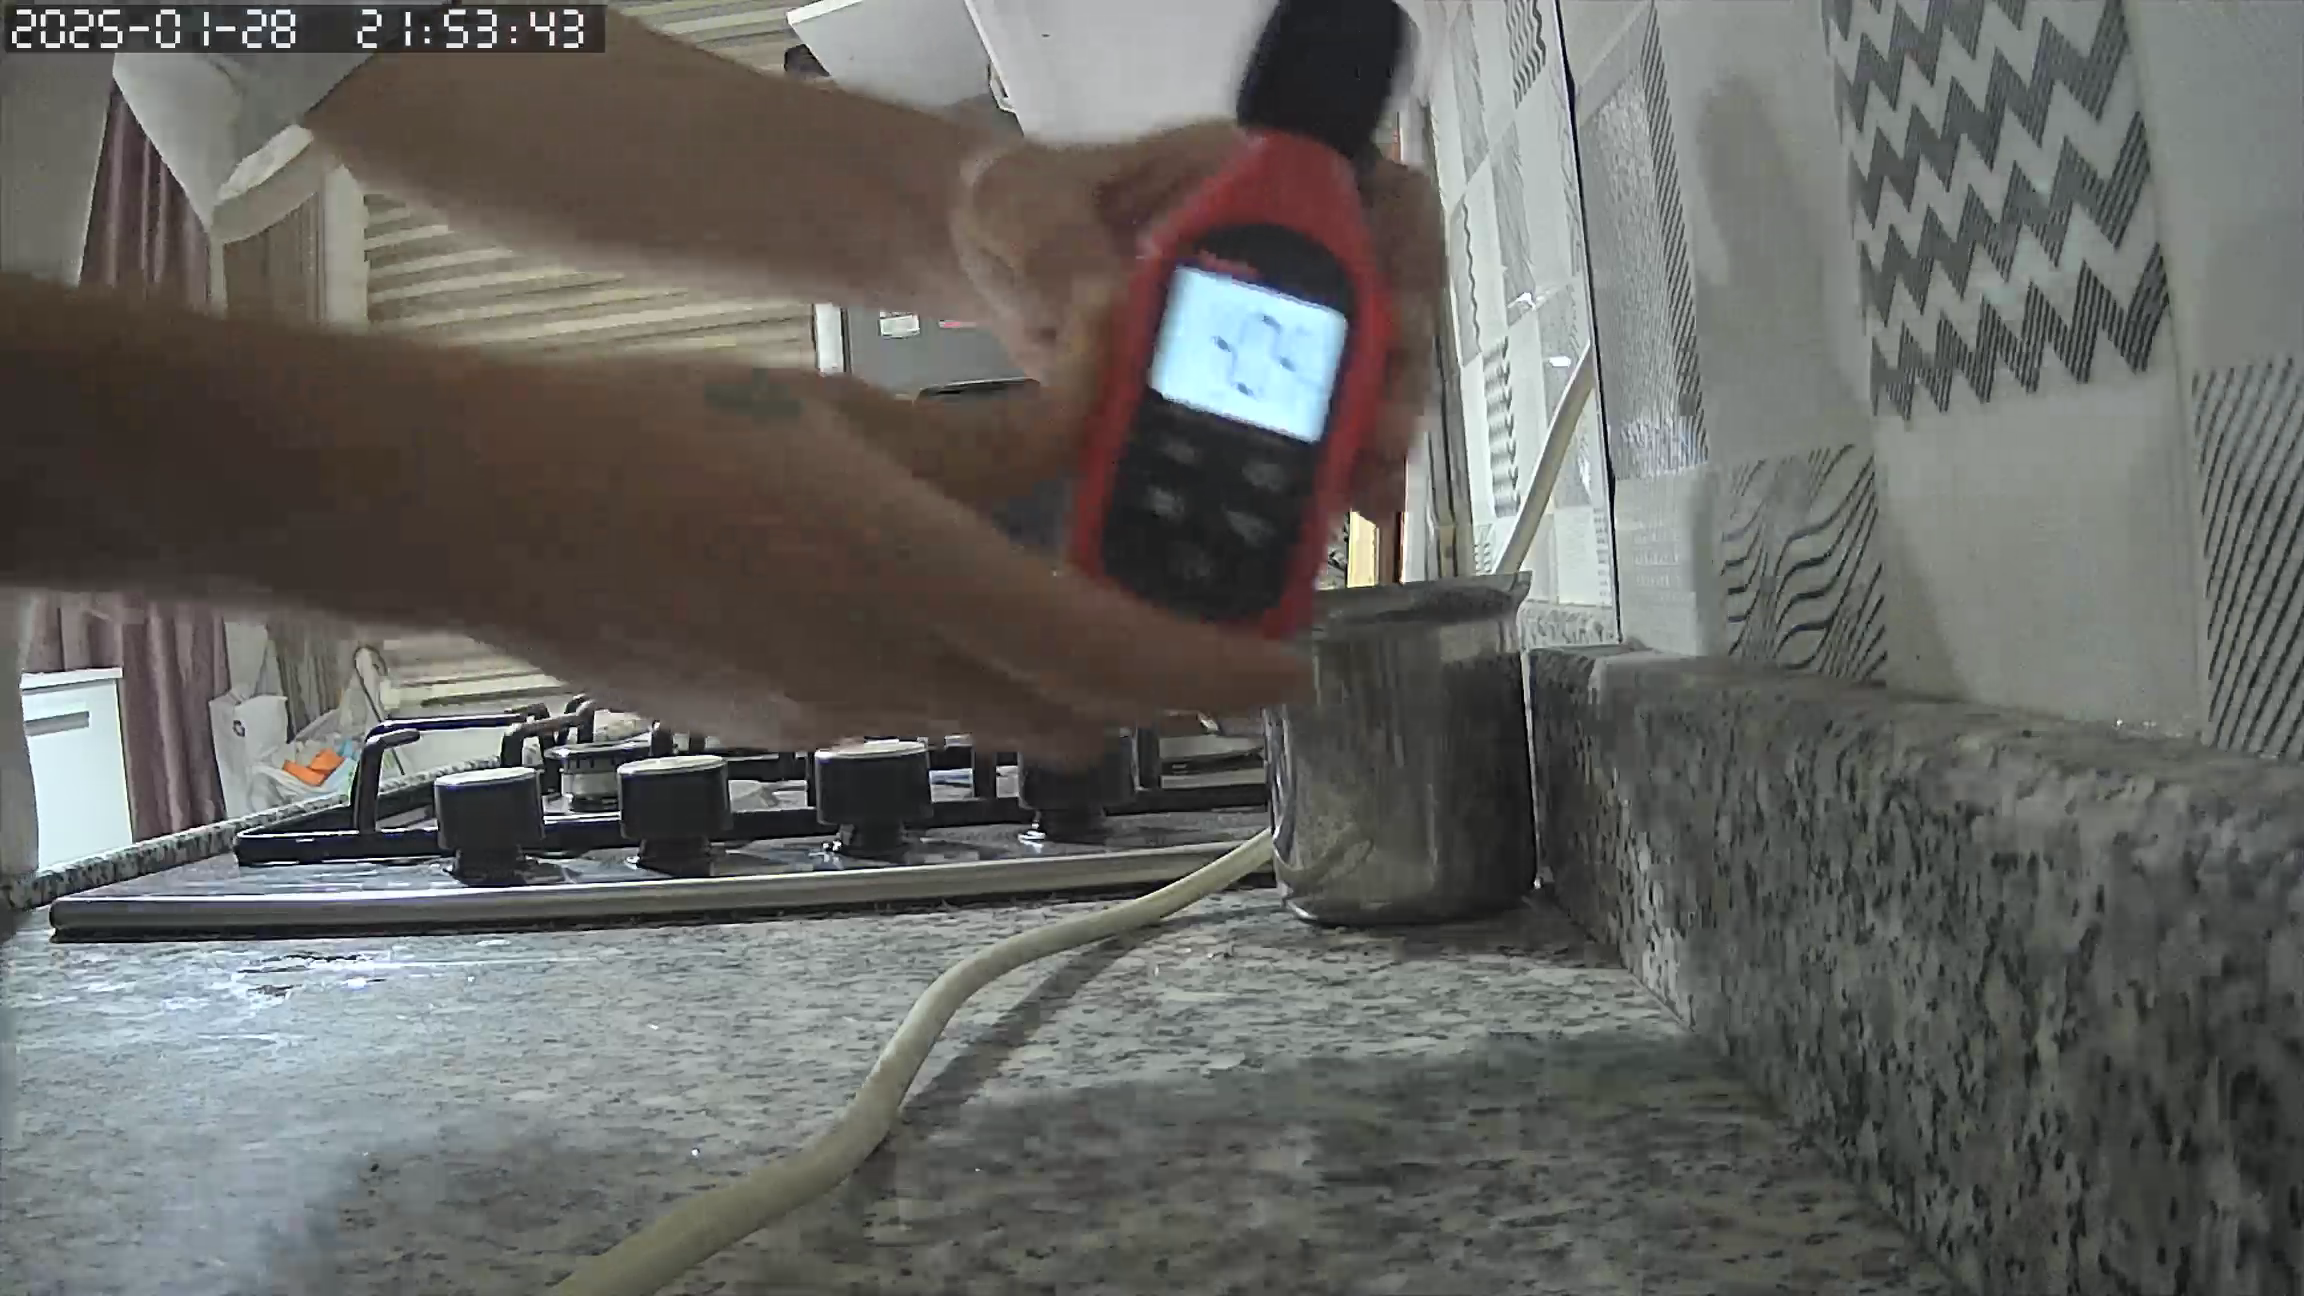screen: (1147, 269, 1345, 445)
